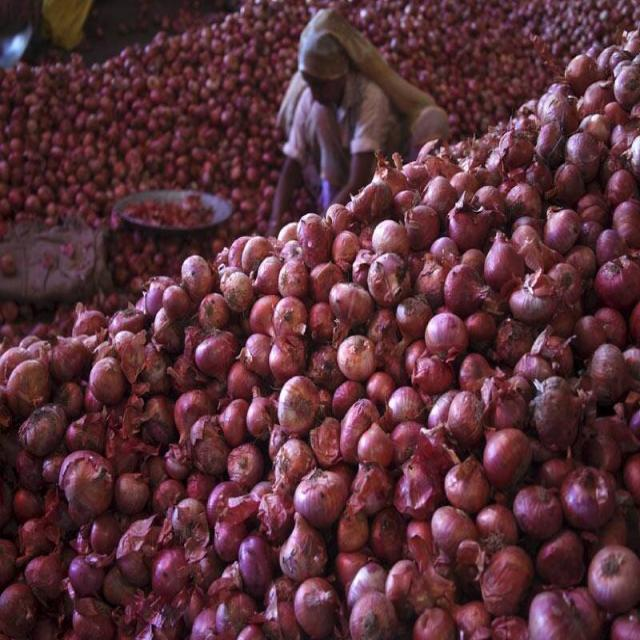onion: (481, 543, 535, 612), (587, 543, 640, 610), (59, 452, 111, 515), (483, 424, 531, 490), (294, 464, 345, 523), (276, 376, 322, 431), (238, 532, 273, 602), (350, 588, 396, 640), (194, 330, 242, 379), (423, 310, 470, 360), (483, 239, 526, 292), (297, 577, 336, 635), (330, 281, 372, 330), (445, 262, 484, 312), (85, 357, 127, 403), (338, 336, 377, 378), (356, 425, 394, 465)
